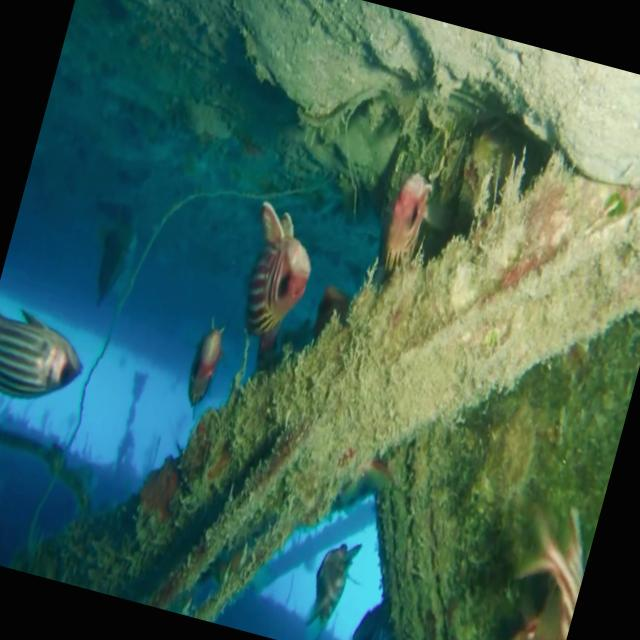Asker Baligi: (226, 198, 326, 350), (0, 287, 101, 427)
